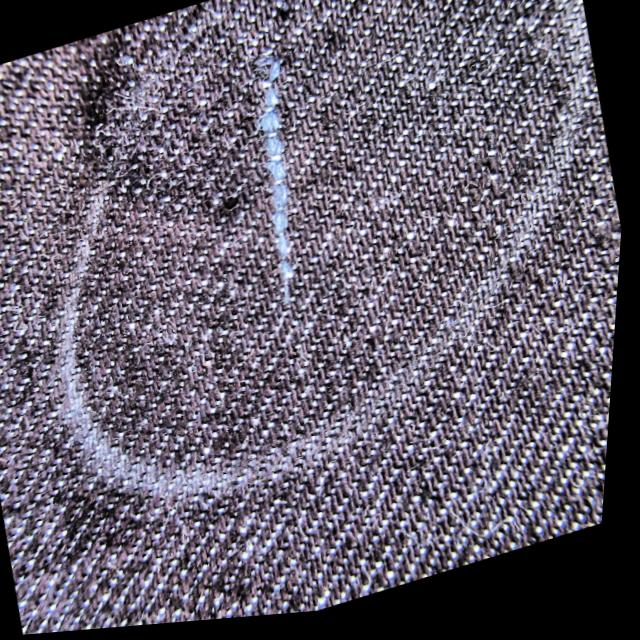Hole: (258, 60, 299, 310)
